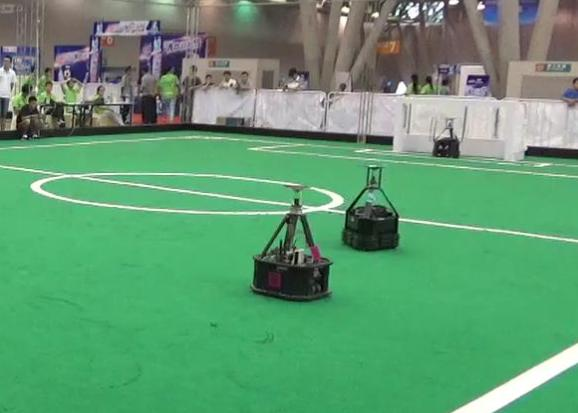robot: (247, 178, 338, 302), (335, 157, 402, 251), (432, 115, 465, 161)
